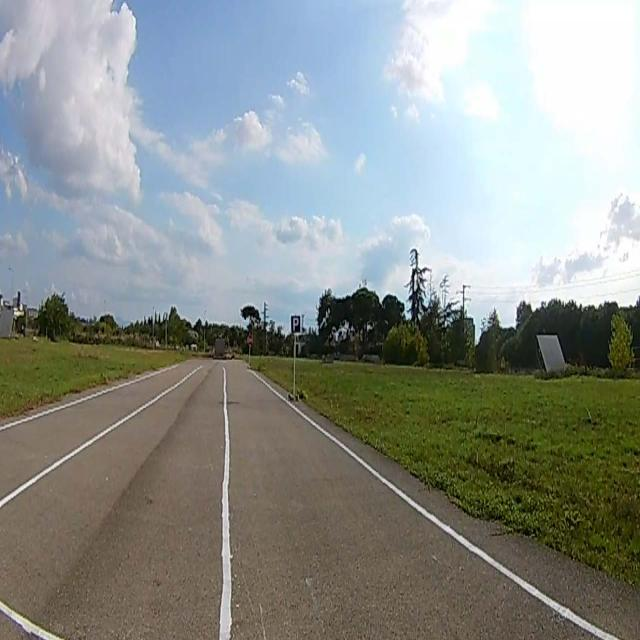park: (292, 314, 300, 332)
